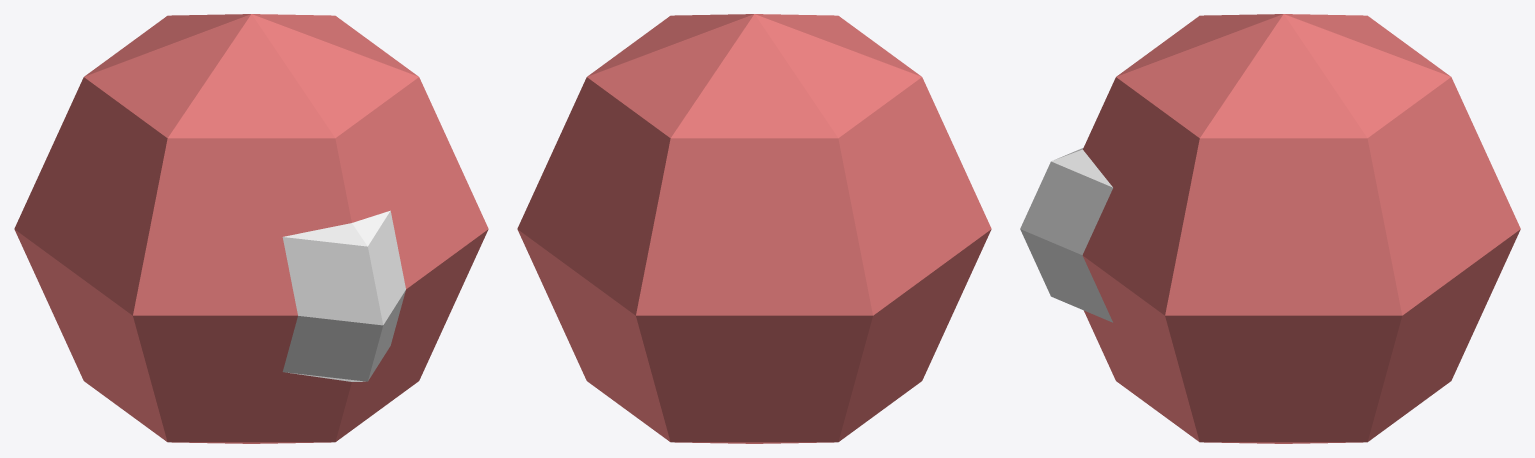
The model's file is flower.glb.
3 renders of one model, left to right at view 1: azimuth 30°, elevation 25°; view 2: azimuth 150°, elevation 25°; view 3: azimuth 270°, elevation 25°, orthographic.
Parts seen in each view (by area): view 1: flower, sphere; view 2: flower; view 3: flower, sphere.
Part boxes in pixels (bbox=[...]): flower: bbox=[14, 14, 488, 443]; sphere: bbox=[282, 210, 405, 381]; flower: bbox=[517, 14, 991, 443]; flower: bbox=[1082, 14, 1520, 443]; sphere: bbox=[1020, 147, 1112, 322].
Bounding box in the file's own units: 0.0779 × 0.09 × 0.095.
